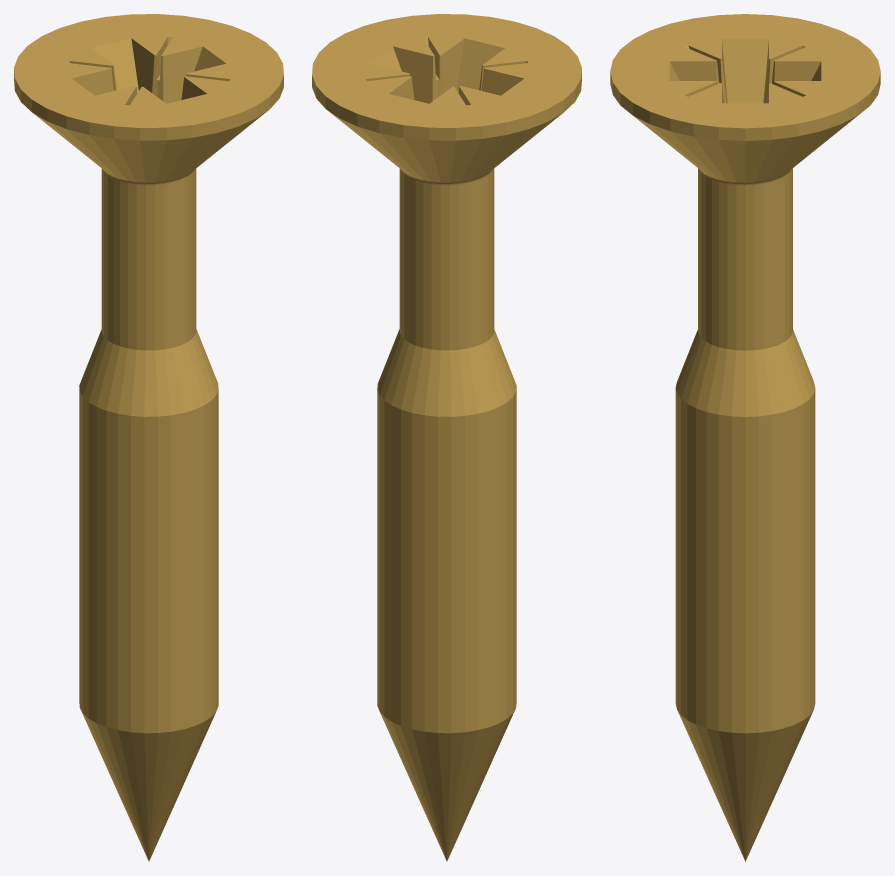
Rendered from model_display.glb.
The picture shows the model from 3 angles, left to right: view 1: azimuth 30°, elevation 25°; view 2: azimuth 150°, elevation 25°; view 3: azimuth 270°, elevation 25°; orthographic projection.
Parts seen in each view (by area): view 1: geometry_0; view 2: geometry_0; view 3: geometry_0.
Boxes of the visible parts, <box> form: geometry_0: <box>14,14,283,861</box>; geometry_0: <box>312,14,581,861</box>; geometry_0: <box>610,14,880,861</box>.
Bounding box in the file's own units: 0.00775 × 0.025 × 0.00775.
